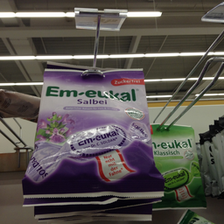candy: (26, 66, 161, 196), (141, 117, 206, 206)
